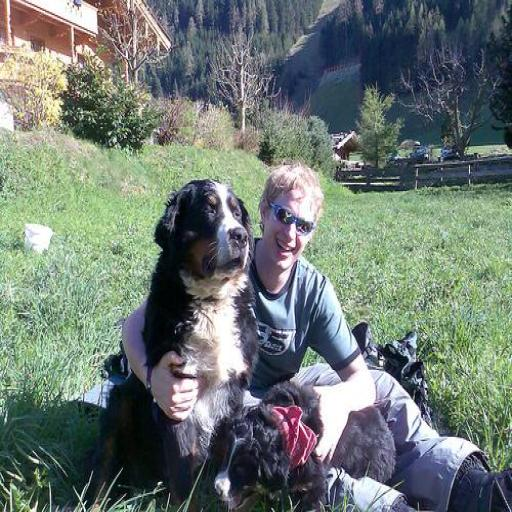dog_face: (150, 175, 258, 282)
